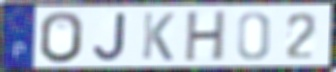0: (236, 10, 273, 62)
2: (284, 11, 319, 60)
H: (182, 9, 229, 64)
J: (91, 12, 128, 63)
K: (140, 10, 177, 62)
O: (38, 9, 85, 65)
